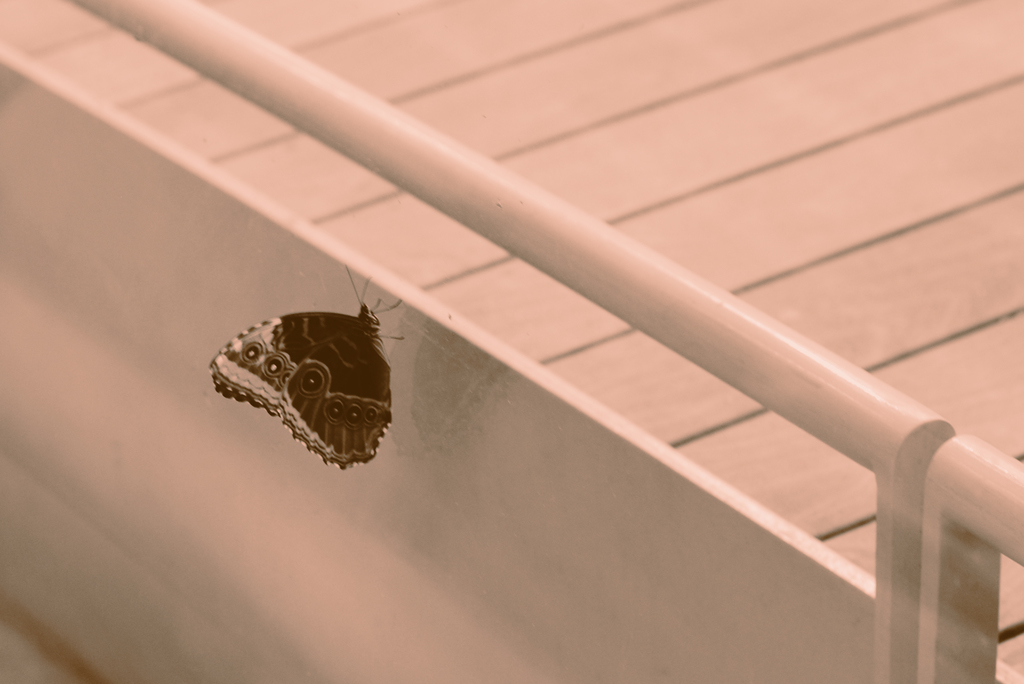Butterfly: (159, 258, 404, 497)
